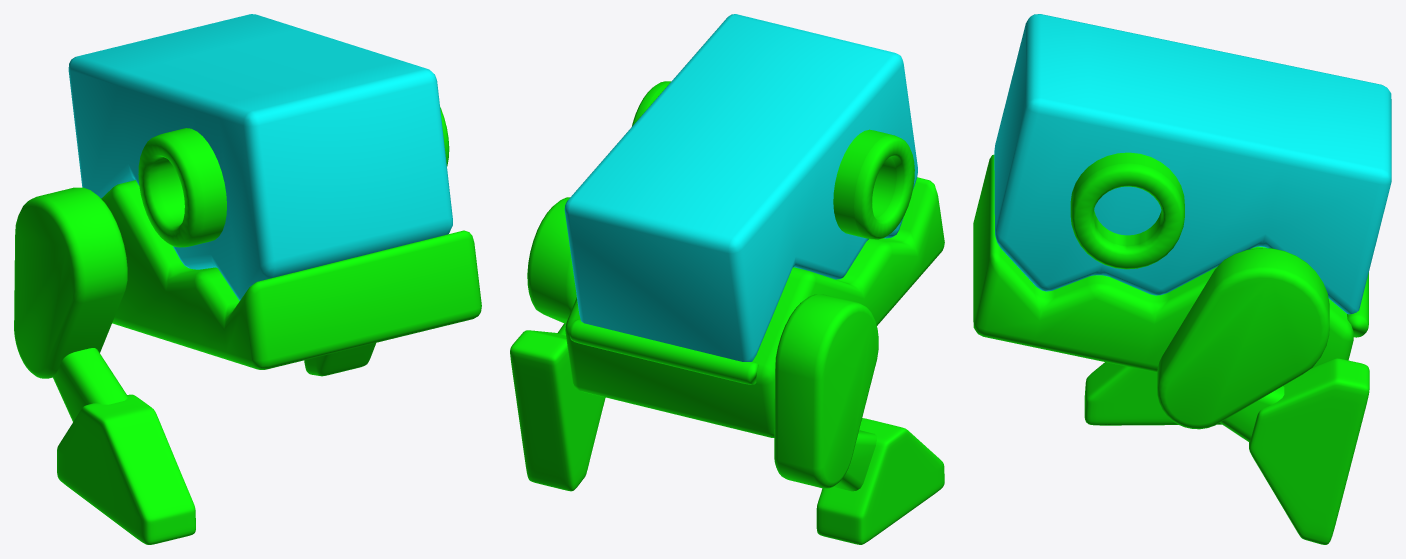
3 renders of one model, left to right at view 1: azimuth 30°, elevation 25°; view 2: azimuth 150°, elevation 25°; view 3: azimuth 270°, elevation 25°, orthographic. The views are drawn at different scales.
Parts seen in each view (by area): view 1: Top_Jaw, Lower_Jaw, Thighs_Left, Feet_Left, Eyes, Shin_Left, Feet_Right; view 2: Top_Jaw, Lower_Jaw, Thighs_Left, Feet_Right, Feet_Left, Eyes, Thighs_Right, Hinge, Shin_Left; view 3: Top_Jaw, Thighs_Right, Lower_Jaw, Feet_Right, Eyes, Feet_Left, Shin_Right, Hinge.
Part boxes in pixels (x1,y1,x2,y2): Top_Jaw: [68, 14, 452, 300]; Lower_Jaw: [101, 180, 481, 369]; Thighs_Left: [14, 187, 127, 378]; Feet_Left: [57, 394, 195, 544]; Eyes: [138, 107, 449, 247]; Shin_Left: [53, 348, 127, 421]; Feet_Right: [304, 343, 375, 376]; Top_Jaw: [564, 14, 917, 361]; Lower_Jaw: [565, 177, 944, 437]; Thighs_Left: [774, 294, 878, 488]; Feet_Right: [510, 330, 605, 491]; Feet_Left: [816, 418, 944, 544]; Eyes: [632, 81, 914, 239]; Thighs_Right: [527, 197, 576, 323]; Hinge: [569, 319, 758, 384]; Shin_Left: [834, 430, 877, 491]; Top_Jaw: [994, 14, 1391, 314]; Thighs_Right: [1157, 248, 1329, 429]; Lower_Jaw: [973, 154, 1353, 372]; Feet_Right: [1249, 358, 1369, 544]; Eyes: [1070, 152, 1184, 269]; Feet_Left: [1084, 362, 1221, 425]; Shin_Right: [1220, 386, 1284, 441]; Hinge: [1347, 272, 1368, 337].
Size of the model in its own units: 2.03 by 2.51 by 2.22.
